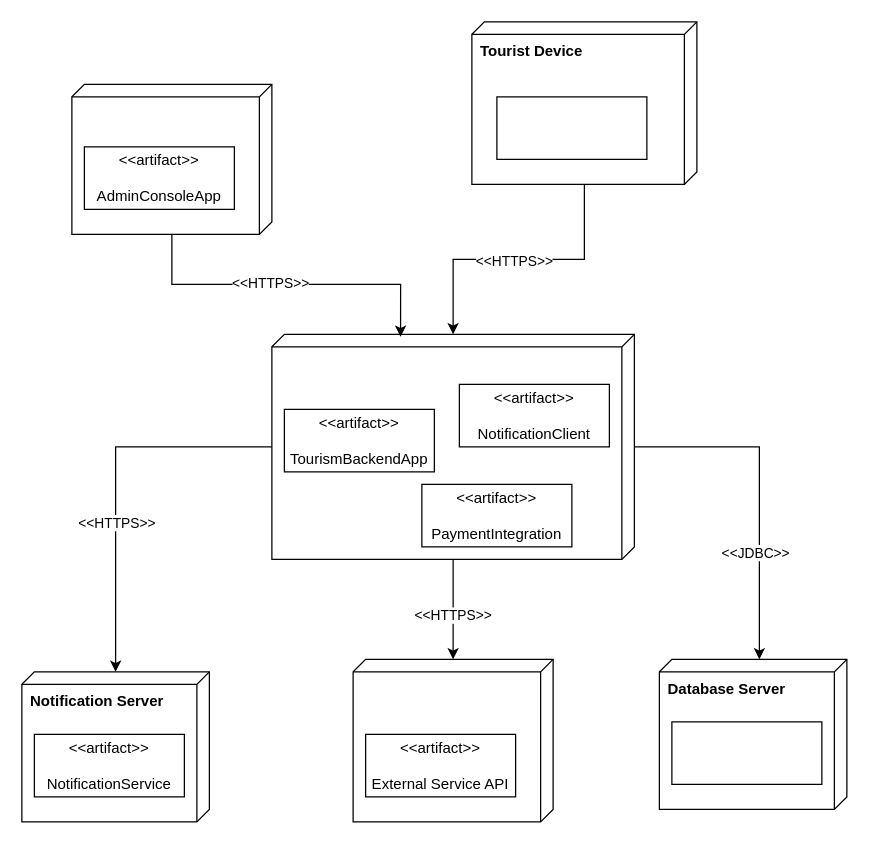
This 869x844 diagram has some shape labels left out. The shapes that lost their labels are listed below. From the top down, each one's box as (x1, y1, x2, y2) in pixels, then its label:
(496, 96, 647, 159): <<artifact>> TourismClientApp
(71, 83, 272, 234): Admin Device
(271, 333, 634, 559): Application Server
(352, 658, 553, 822): Payment Gateway
(671, 721, 822, 784): <<artifact>> TourismDB
